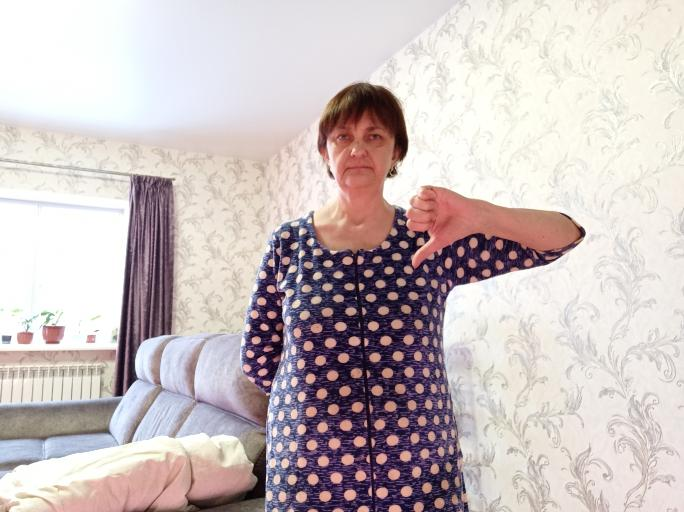dislike: (403, 180, 471, 271)
